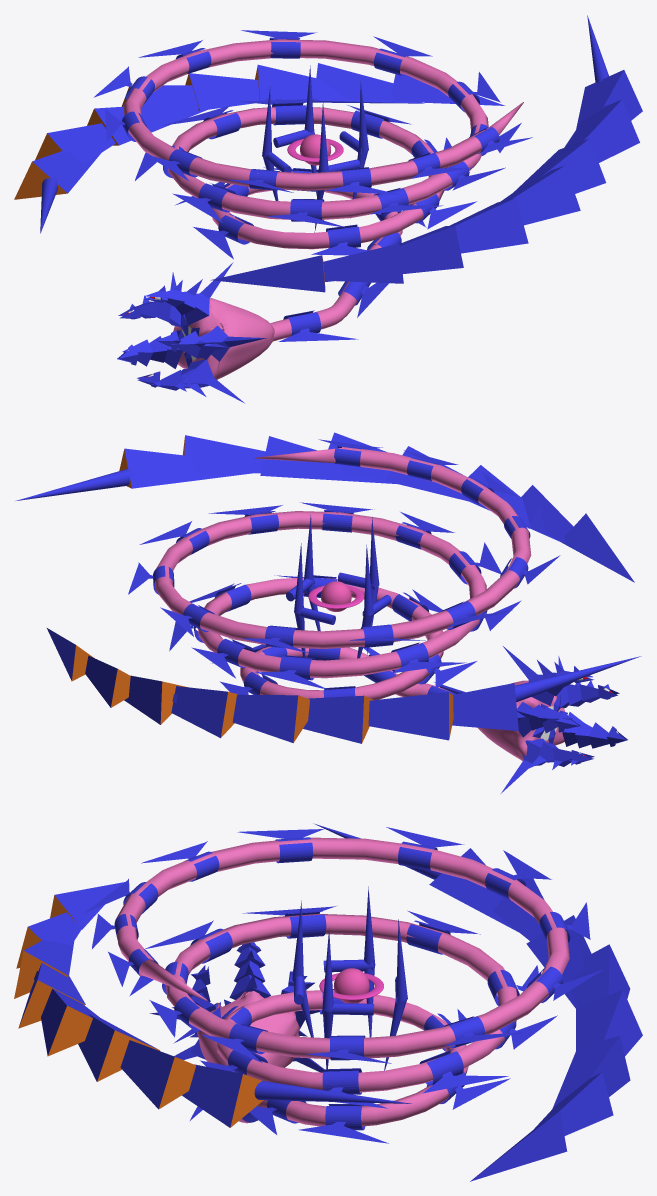
3 renders of one model, top to bottom at view 1: azimuth 30°, elevation 25°; view 2: azimuth 150°, elevation 25°; view 3: azimuth 270°, elevation 25°, orthographic. The views are drawn at different scales.
Visible parts, largest first — view 1: Blades.003, EndPin.001, Sphere.001, Torus, neck.011, neck.002, neck.005, Cone.005; view 2: Blades.003, EndPin.001, Sphere.001, Torus, neck.014, Cone.004, Cone.002, Cone.005, neck.002, Cone.003; view 3: Blades.003, EndPin.001, Sphere.001, Torus, Cone.002, Cone.005, Cone.003, Blades.001, Cone.004, neck.002.
Part boxes in pixels (x1,y1,x2,y2): Blades.003: [94, 30, 532, 341]; EndPin.001: [14, 15, 642, 292]; Sphere.001: [173, 298, 274, 379]; Torus: [287, 134, 343, 165]; neck.011: [182, 359, 244, 403]; neck.002: [184, 262, 233, 325]; neck.005: [200, 325, 266, 361]; Cone.005: [350, 81, 368, 218]; Blades.003: [128, 439, 560, 699]; EndPin.001: [16, 432, 641, 743]; Sphere.001: [478, 680, 565, 760]; Torus: [308, 581, 364, 611]; neck.014: [501, 738, 546, 793]; Cone.004: [357, 544, 373, 658]; Cone.002: [294, 543, 305, 656]; Cone.005: [304, 515, 323, 649]; neck.002: [503, 646, 553, 705]; Cone.003: [367, 517, 379, 654]; Blades.003: [84, 827, 602, 1143]; EndPin.001: [14, 823, 642, 1181]; Sphere.001: [197, 991, 299, 1072]; Torus: [319, 968, 383, 1003]; Cone.002: [384, 919, 407, 1070]; Cone.005: [322, 928, 333, 1069]; Cone.003: [292, 900, 313, 1037]; Blades.001: [249, 1100, 306, 1134]; Cone.004: [364, 886, 375, 1037]; neck.002: [229, 974, 270, 999].
Size of the model in its own units: 101 by 37.77 by 80.88.
